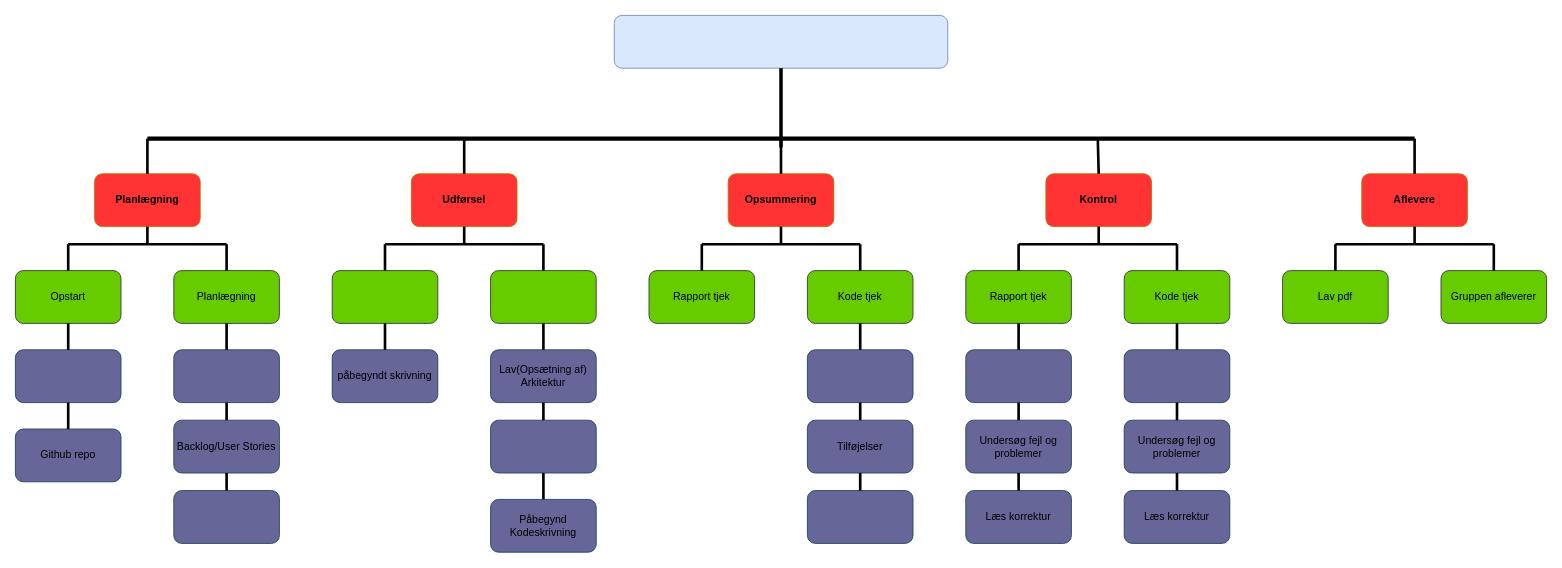
This 1562x568 diagram has some shape labels left out. Here are the shapes that lost their labels. From the top down, the centre of each, then its label:
the point at 780,41: Projekt MyTunes
the point at 384,296: Rapport
the point at 543,296: Kodning
the point at 68,376: Gruppe kontrakt
the point at 226,376: WBS
the point at 860,376: Finjustér
the point at 1018,376: Gennemgang af rapport
the point at 1176,376: Gennemgang af kode, tjek for fejl
the point at 543,446: Design Database
the point at 226,516: Gantt-skema
the point at 860,516: Gruppe samtale
